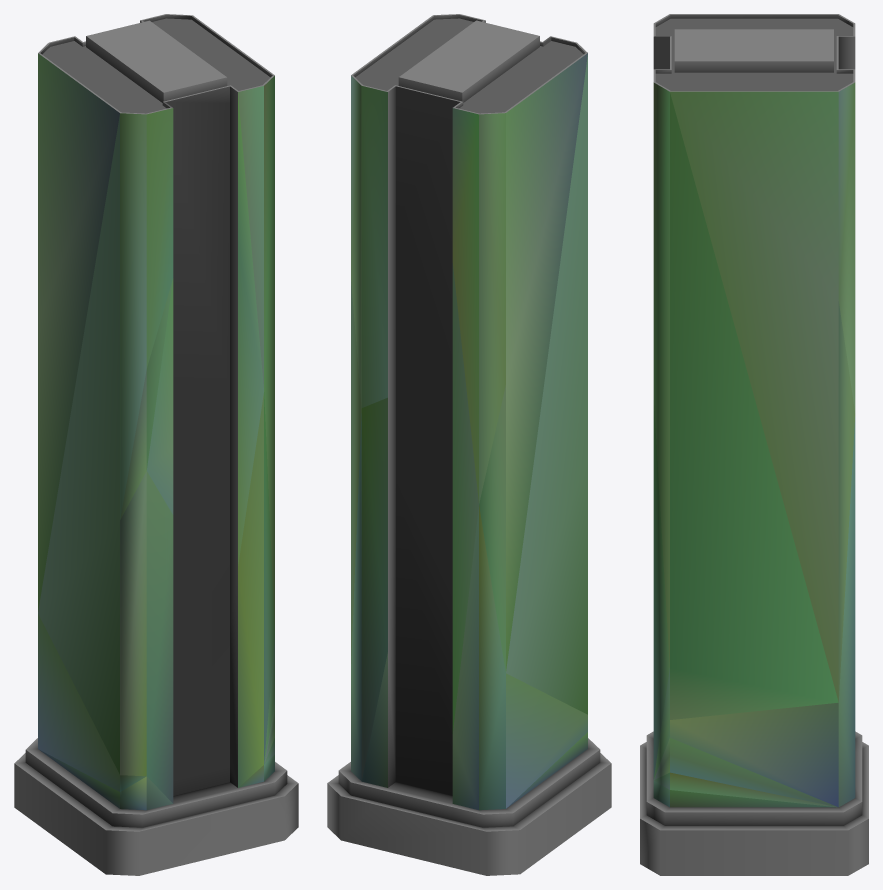
3 views of the same model, side by side, from view 1: azimuth 30°, elevation 25°; view 2: azimuth 150°, elevation 25°; view 3: azimuth 270°, elevation 25° (orthographic). The views are drawn at different scales.
Parts seen in each view (by area): view 1: windowRefl.024; view 2: windowRefl.024; view 3: windowRefl.024.
Boxes of the visible parts, box(x1,y1,x2,y2) form: windowRefl.024: box(14, 14, 298, 875); windowRefl.024: box(327, 14, 611, 875); windowRefl.024: box(640, 14, 868, 875).
Size of the model in its own units: 0.1326 by 0.5 by 0.1325.
